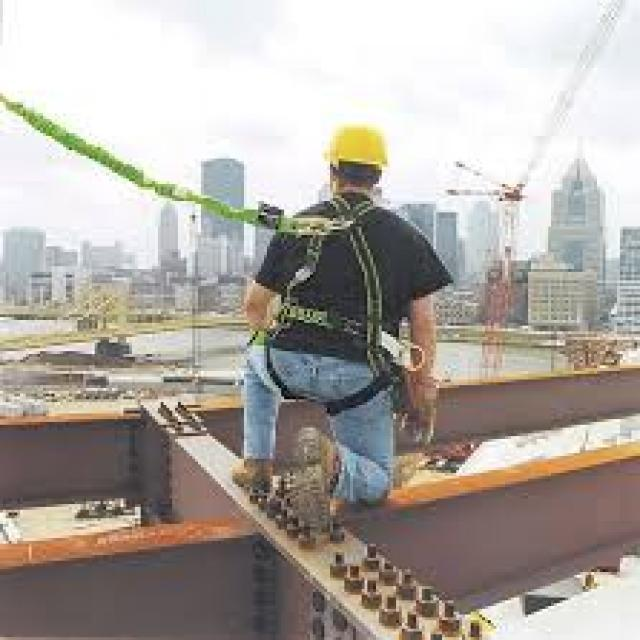belt: (257, 202, 412, 418)
